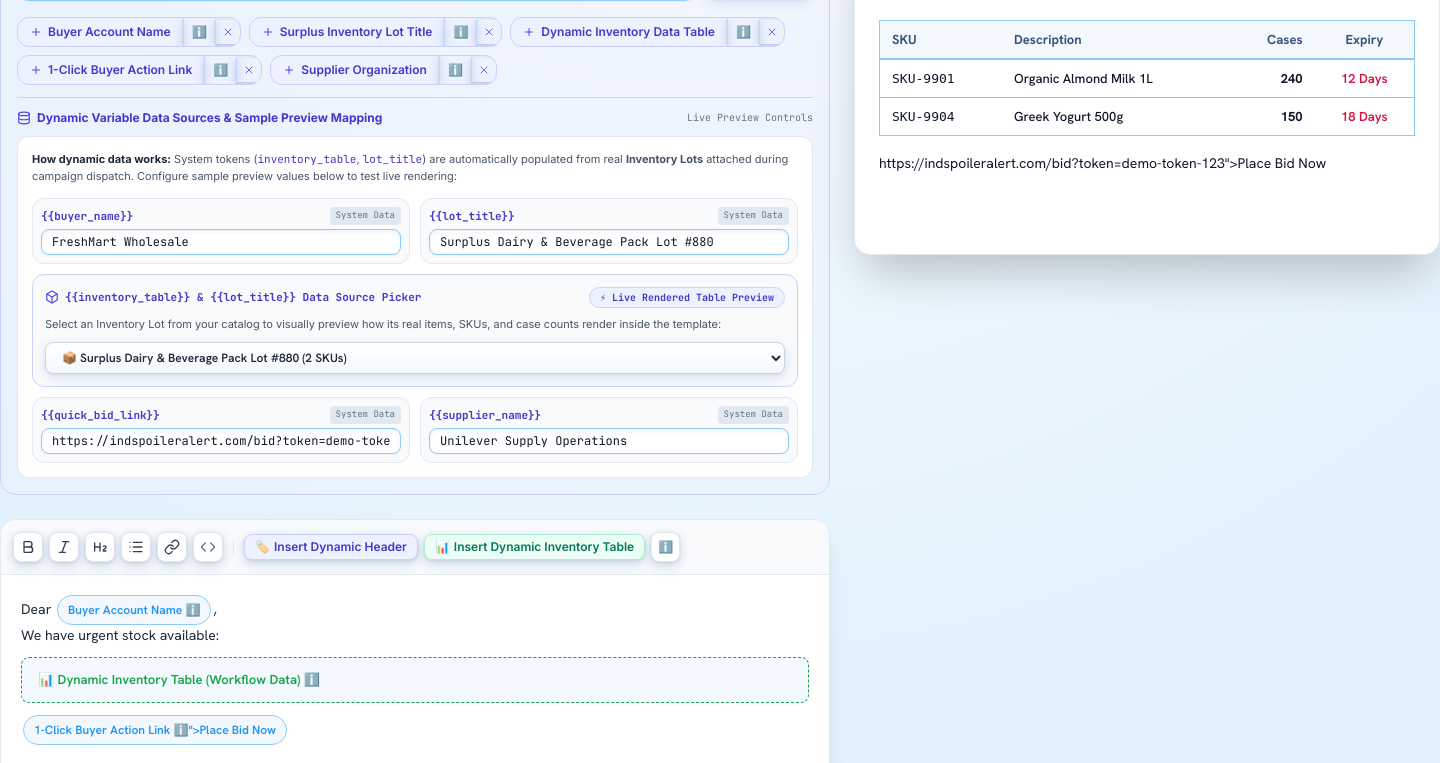
it: Issue #78 / Slice 3: TipTap WYSIWYG Template Editor & Dynamic Token Palette › allows picking an Inventory Lot from the dropdown picker to visually render live item table and lot title
The image size is (1440, 763).
(page scrolled)
# Select second lot "sample-lot-912"
Select "📦 Short-Dated Bakery & Snack Lot #912 (3 SKUs)" in the dropdown with test id "inventory-lot-picker". click: (415, 358)
box: [45, 342, 785, 374]
(page scrolled)
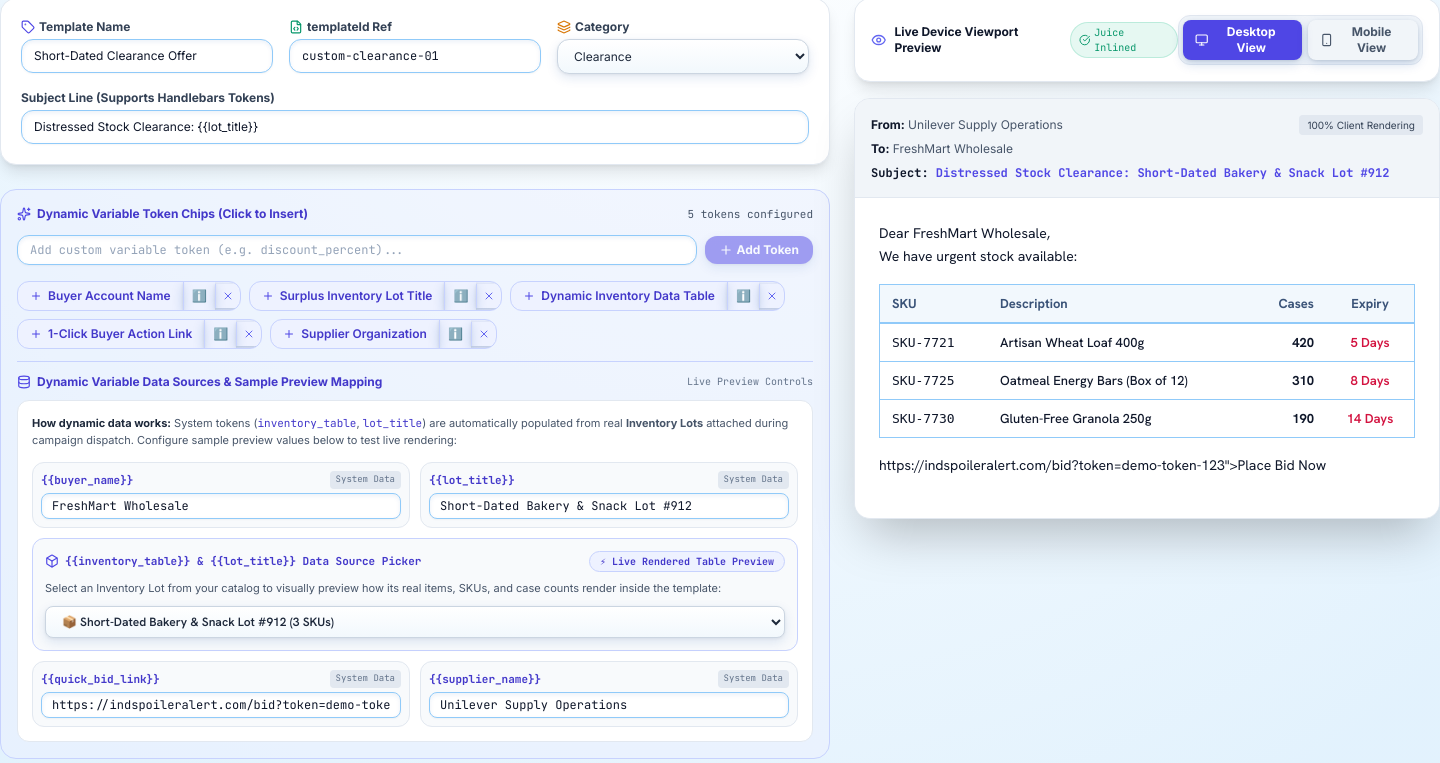
Expected: the element with test id "compiled-email-content" shows "Artisan Wheat Loaf 400g", [1000, 334, 1144, 351]
Expected: the element with test id "compiled-email-content" shows "Gluten-Free Granola 250g", [1000, 410, 1151, 427]
